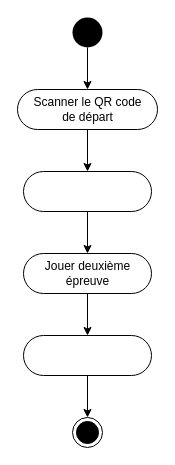
Some shapes in this 175 by 465 pixel diagram are drawn without their labels. The box of each missing label's shape, as (x1, y1, x2, y2) in pixels:
Jouer première épreuve: (22, 170, 152, 212)
Jouer troisième épreuve: (22, 334, 152, 376)
